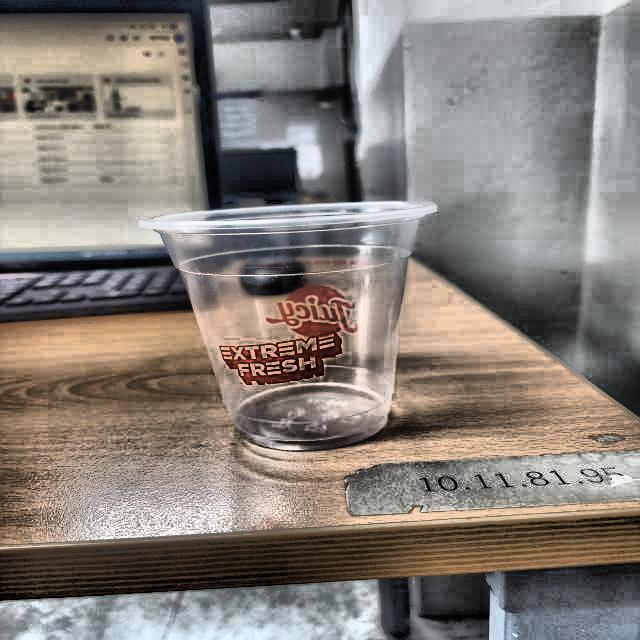plastic cup: (136, 199, 438, 449)
